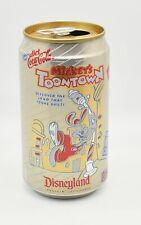metal: (19, 22, 110, 198)
